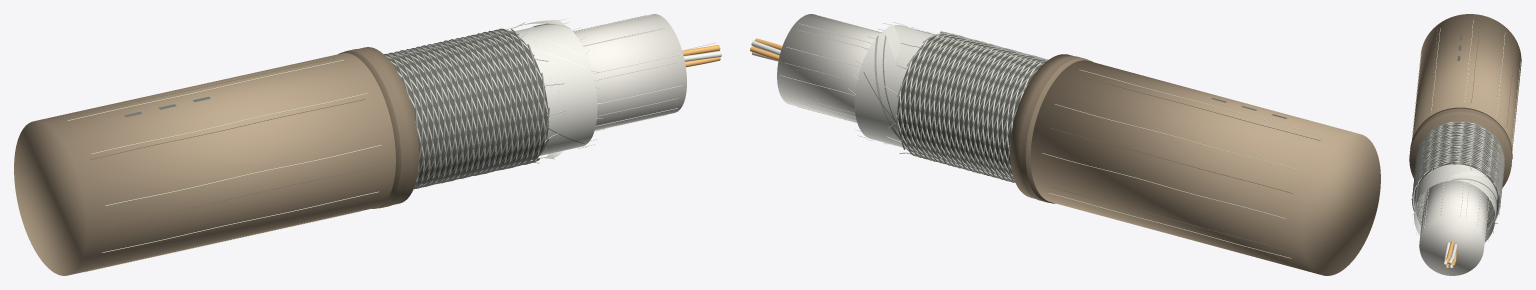
Rendered from rf-sucoflex550s-macro.glb.
The picture shows the model from 3 angles, left to right: view 1: azimuth 30°, elevation 25°; view 2: azimuth 150°, elevation 25°; view 3: azimuth 270°, elevation 25°; orthographic projection. The views are drawn at different scales.
Visible parts, largest first — view 1: macro jacket body, shadow seen through braid windows, macro dielectric exposed core, continuous foil sleeve under braid, thick jacket cut wall, rounded jacket cut lip, macro braid shadow carrier 05 strand 1, macro braid shadow carrier 04 strand 1, macro braid shadow carrier 06 strand 1, macro braid shadow carrier 07 strand 1, macro braid shadow carrier 11 strand 1, macro braid shadow carrier 03 strand 1 (+6 smaller); view 2: macro jacket body, shadow seen through braid windows, macro dielectric exposed core, continuous foil sleeve under braid, thick jacket cut wall, rounded jacket cut lip, macro braid shadow carrier 12 strand 1, macro braid shadow carrier 02 strand 1, macro braid shadow carrier 01 strand 1, macro braid shadow carrier 07 strand 1, macro braid shadow carrier 03 strand 1, macro braid shadow carrier 11 strand 1 (+7 smaller); view 3: macro jacket body, macro dielectric exposed core, thick jacket cut wall, continuous foil sleeve under braid, shadow seen through braid windows, macro braid shadow carrier 05 strand 2, macro braid shadow carrier 11 strand 2, macro braid shadow carrier 10 strand 2, macro braid shadow carrier 09 strand 2, macro braid shadow carrier 04 strand 2, macro braid shadow carrier 07 strand 2, macro braid shadow carrier 08 strand 2 (+38 smaller).
Boxes of the visible parts, x1=… form: macro jacket body: x1=14, y1=53, x2=395, y2=275; shadow seen through braid windows: x1=388, y1=31, x2=548, y2=185; macro dielectric exposed core: x1=573, y1=14, x2=686, y2=130; continuous foil sleeve under braid: x1=515, y1=23, x2=597, y2=155; thick jacket cut wall: x1=338, y1=47, x2=419, y2=208; rounded jacket cut lip: x1=344, y1=49, x2=408, y2=208; macro braid shadow carrier 05 strand 1: x1=419, y1=30, x2=516, y2=188; macro braid shadow carrier 04 strand 1: x1=415, y1=32, x2=511, y2=188; macro braid shadow carrier 06 strand 1: x1=416, y1=29, x2=522, y2=186; macro braid shadow carrier 07 strand 1: x1=421, y1=29, x2=527, y2=186; macro braid shadow carrier 11 strand 1: x1=388, y1=38, x2=549, y2=181; macro braid shadow carrier 03 strand 1: x1=411, y1=34, x2=505, y2=187; macro jacket body: x1=1030, y1=60, x2=1380, y2=275; shadow seen through braid windows: x1=897, y1=34, x2=1045, y2=178; macro dielectric exposed core: x1=777, y1=14, x2=880, y2=122; continuous foil sleeve under braid: x1=854, y1=25, x2=933, y2=147; thick jacket cut wall: x1=1010, y1=54, x2=1093, y2=203; rounded jacket cut lip: x1=1019, y1=56, x2=1087, y2=202; macro braid shadow carrier 12 strand 1: x1=920, y1=43, x2=1047, y2=176; macro braid shadow carrier 02 strand 1: x1=911, y1=40, x2=1038, y2=173; macro braid shadow carrier 01 strand 1: x1=915, y1=42, x2=1043, y2=174; macro braid shadow carrier 07 strand 1: x1=907, y1=34, x2=1017, y2=182; macro braid shadow carrier 03 strand 1: x1=905, y1=39, x2=1035, y2=172; macro braid shadow carrier 11 strand 1: x1=925, y1=44, x2=1046, y2=176; macro jacket body: x1=1412, y1=14, x2=1521, y2=150; macro dielectric exposed core: x1=1419, y1=180, x2=1488, y2=275; thick jacket cut wall: x1=1409, y1=107, x2=1512, y2=187; continuous foil sleeve under braid: x1=1414, y1=164, x2=1497, y2=242; shadow seen through braid windows: x1=1414, y1=123, x2=1498, y2=214; macro braid shadow carrier 05 strand 2: x1=1413, y1=136, x2=1504, y2=210; macro braid shadow carrier 11 strand 2: x1=1412, y1=126, x2=1503, y2=211; macro braid shadow carrier 10 strand 2: x1=1413, y1=124, x2=1503, y2=192; macro braid shadow carrier 09 strand 2: x1=1412, y1=122, x2=1503, y2=194; macro braid shadow carrier 04 strand 2: x1=1413, y1=134, x2=1502, y2=220; macro braid shadow carrier 07 strand 2: x1=1413, y1=123, x2=1504, y2=186; macro braid shadow carrier 08 strand 2: x1=1413, y1=121, x2=1503, y2=189.
Size of the model in its own units: 6.45 by 1.37 by 1.5.
